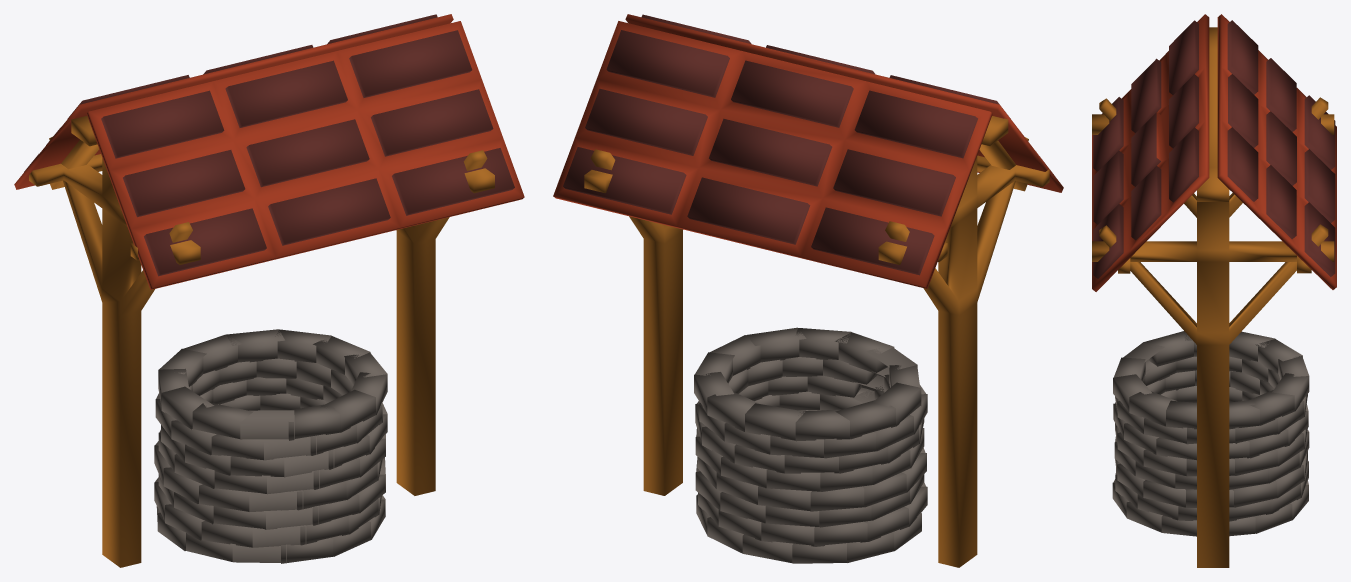
File: well.fbx
3 views of the same model, side by side, from view 1: azimuth 30°, elevation 25°; view 2: azimuth 150°, elevation 25°; view 3: azimuth 270°, elevation 25° (orthographic). The views are drawn at different scales.
Visible parts, largest first — view 1: roof, well, frame; view 2: roof, well, frame; view 3: roof, well, frame.
Boxes of the visible parts, bbox=[...] form: roof: bbox=[14, 14, 524, 289]; well: bbox=[154, 329, 387, 563]; frame: bbox=[29, 116, 494, 567]; roof: bbox=[553, 14, 1063, 288]; well: bbox=[694, 327, 927, 563]; frame: bbox=[584, 116, 1049, 567]; roof: bbox=[1092, 14, 1336, 291]; well: bbox=[1112, 331, 1309, 536]; frame: bbox=[1092, 27, 1334, 567].
Bounding box in the file's own units: 521 × 607 × 332.
